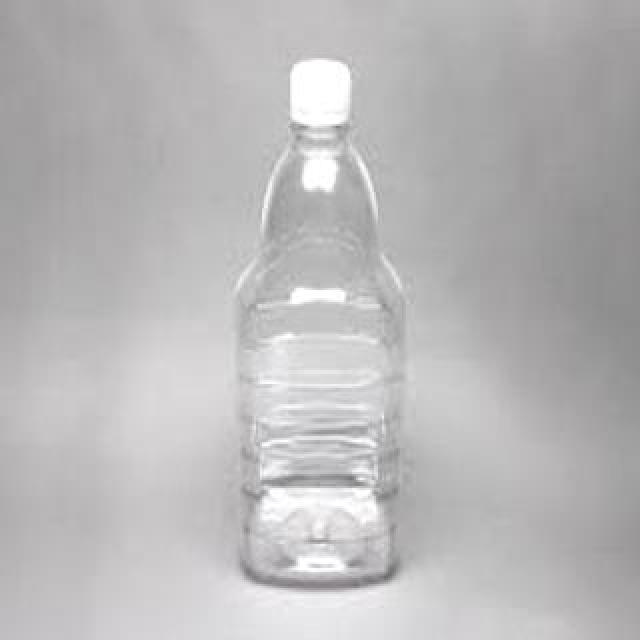Pet_Bottle: (254, 53, 384, 591)
